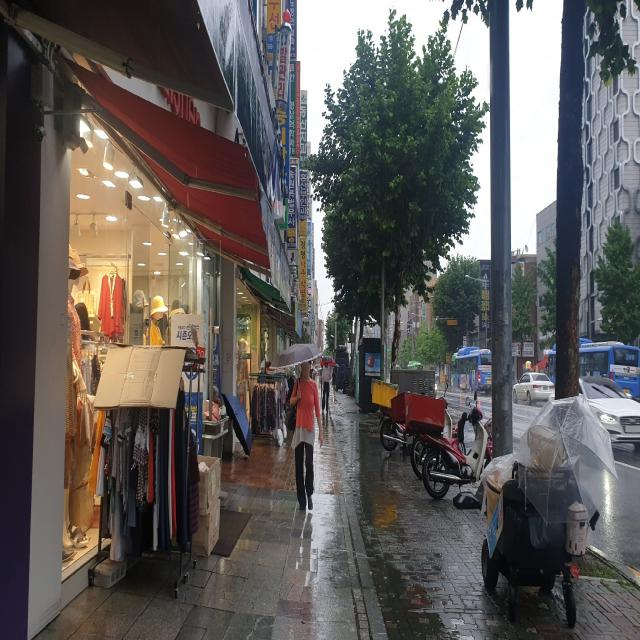motorbike: (390, 392, 492, 494), (372, 378, 427, 451)
